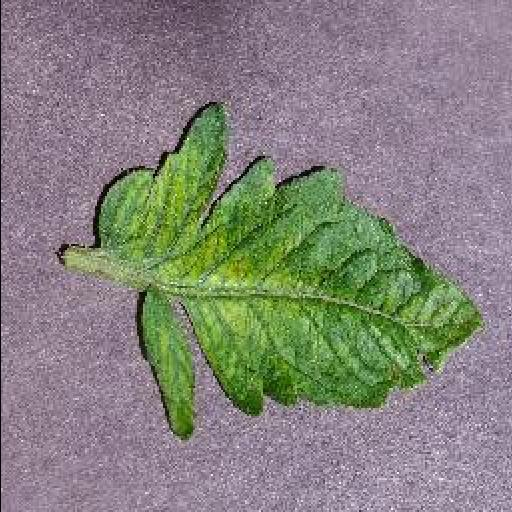Mosaic Virus: (94, 104, 484, 440)
